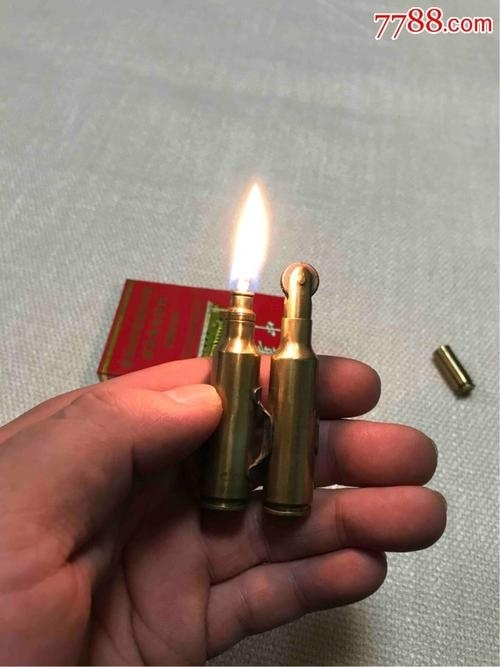fire: (227, 178, 270, 294)
